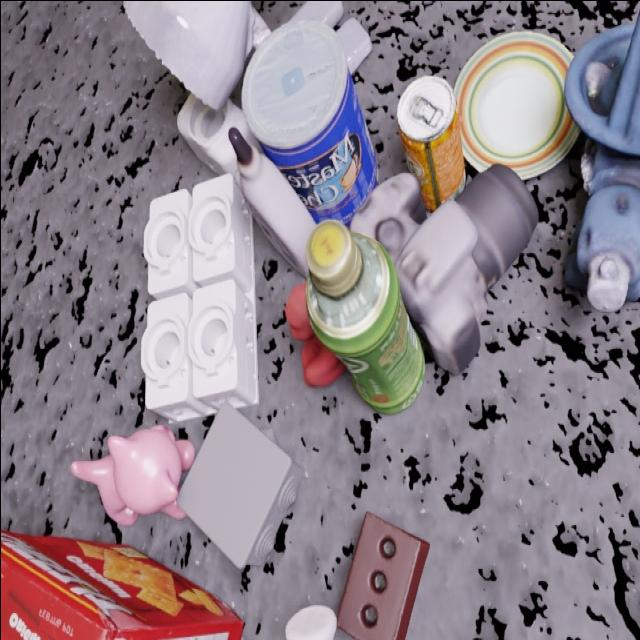Other Objects: (351, 164, 537, 371), (141, 173, 258, 421), (241, 19, 376, 223), (1, 529, 243, 639), (177, 93, 315, 273), (305, 220, 424, 412), (177, 403, 291, 567), (454, 31, 579, 177), (71, 424, 194, 524), (338, 512, 429, 639), (397, 75, 465, 209), (285, 283, 344, 385), (286, 604, 336, 639)
